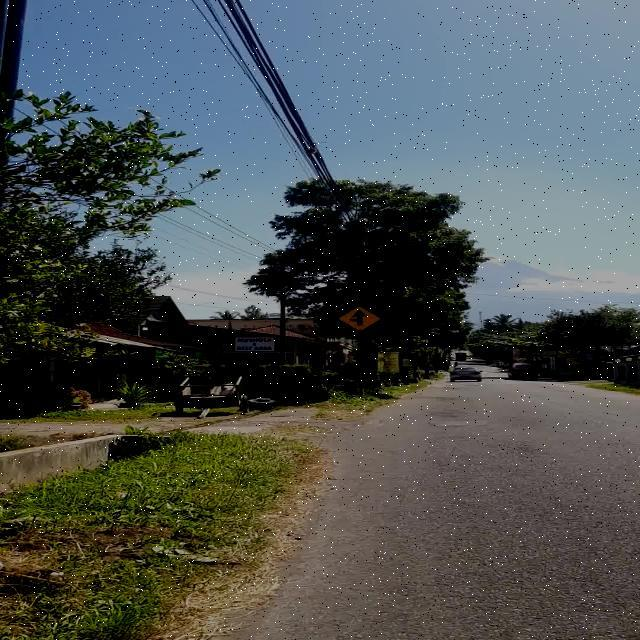Persimpangan 3 Prioritas Kiri: (336, 306, 379, 331)
